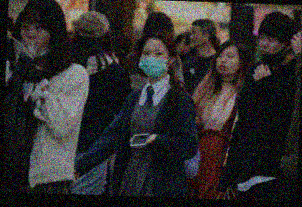mask_weared_incorrect: (17, 18, 51, 58), (257, 34, 283, 66)
with_mask: (137, 46, 169, 78)
without_mask: (213, 49, 239, 78), (188, 27, 203, 48)
